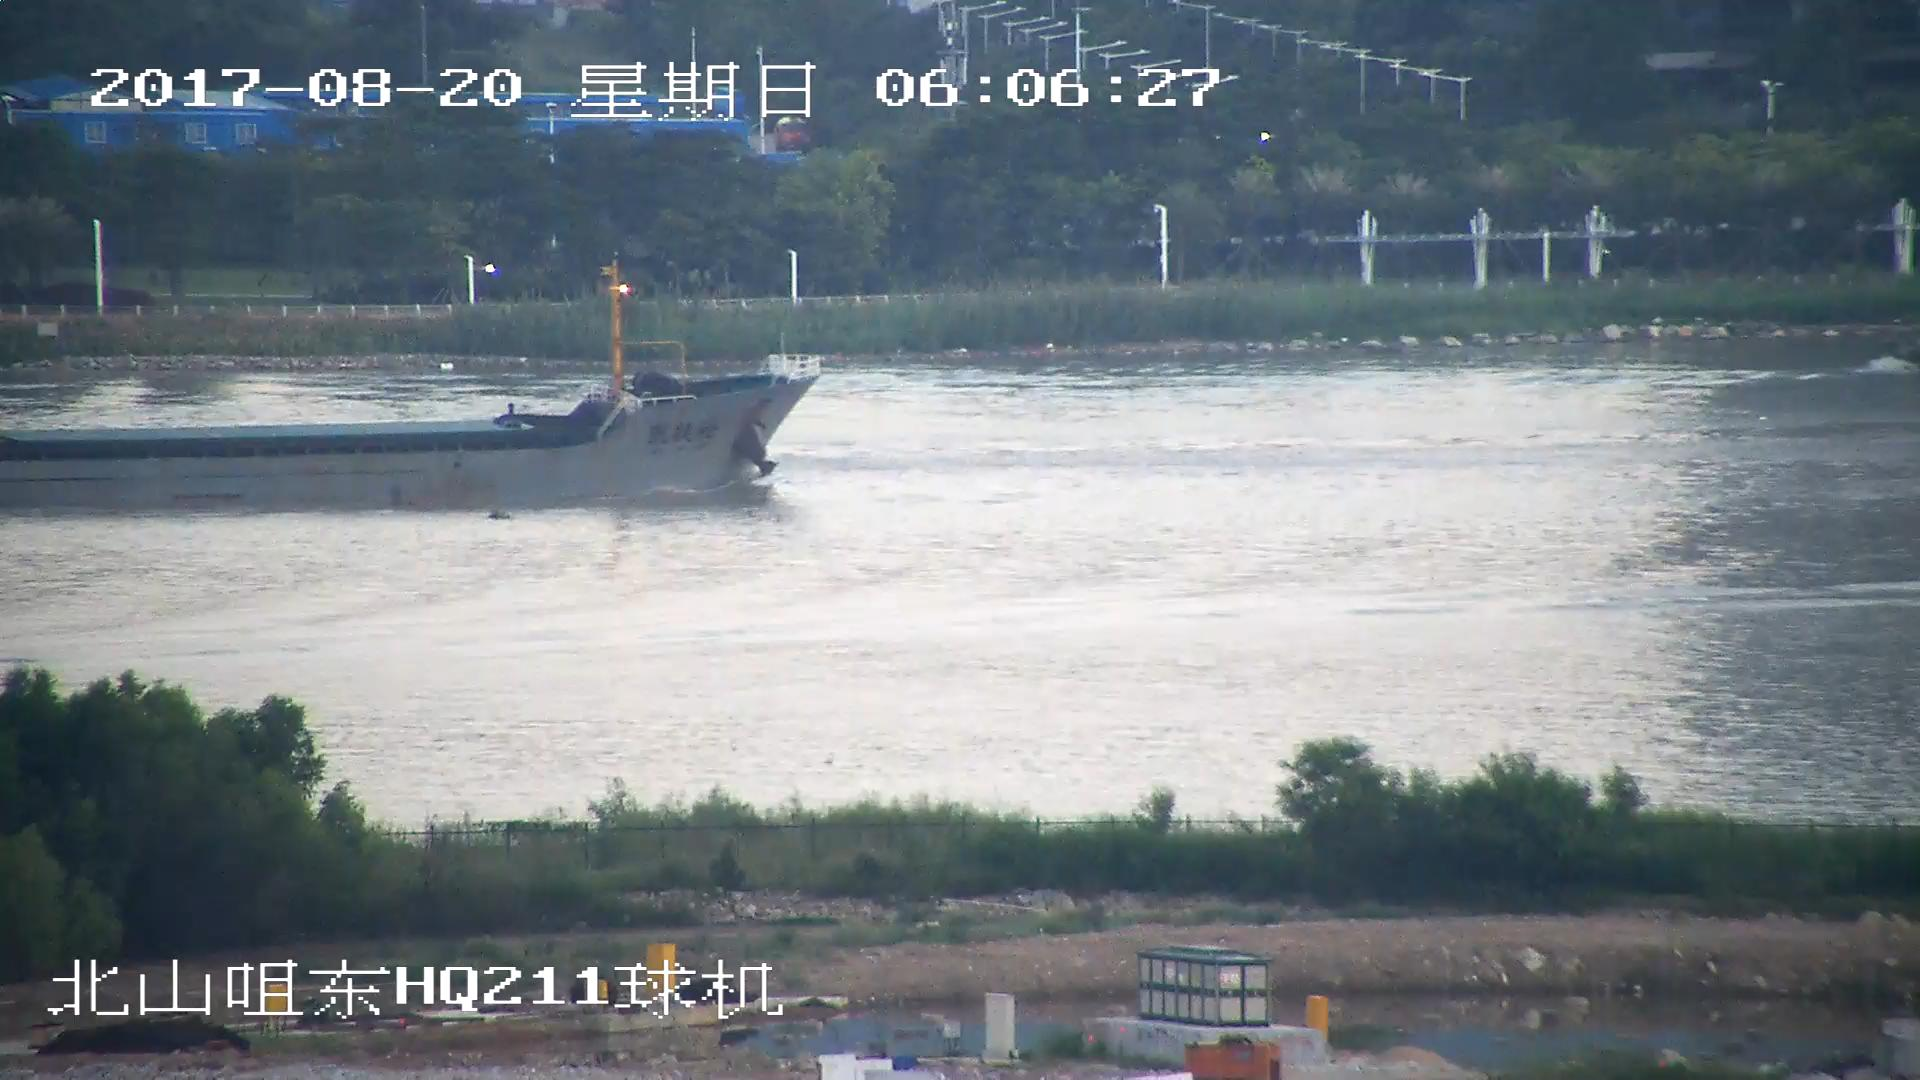general cargo ship: (1, 344, 813, 514)
